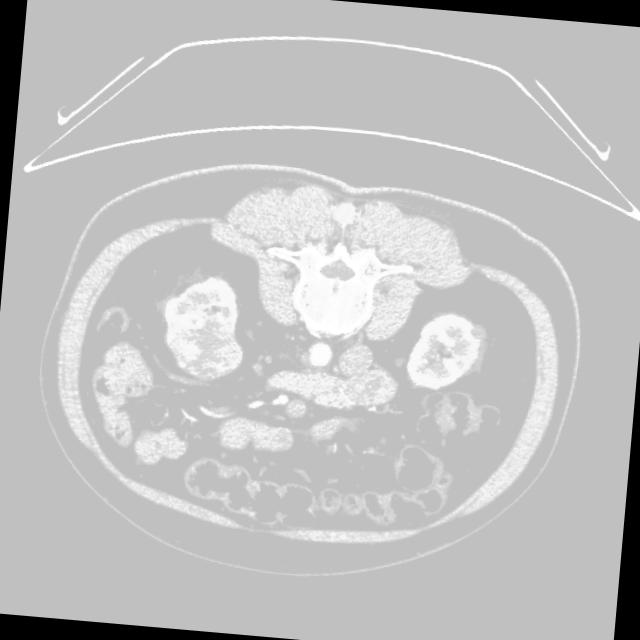TUMOR: (0, 223, 396, 431)
